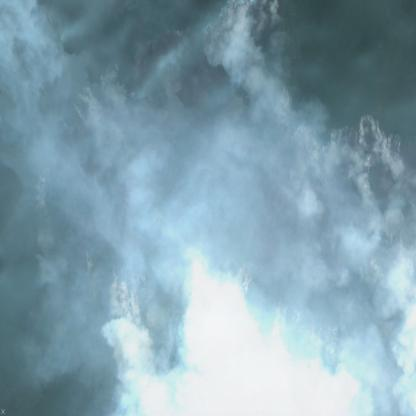fire: (328, 109, 410, 158), (70, 71, 118, 112), (105, 261, 146, 301), (224, 0, 287, 19), (76, 248, 104, 273), (34, 162, 51, 197)
